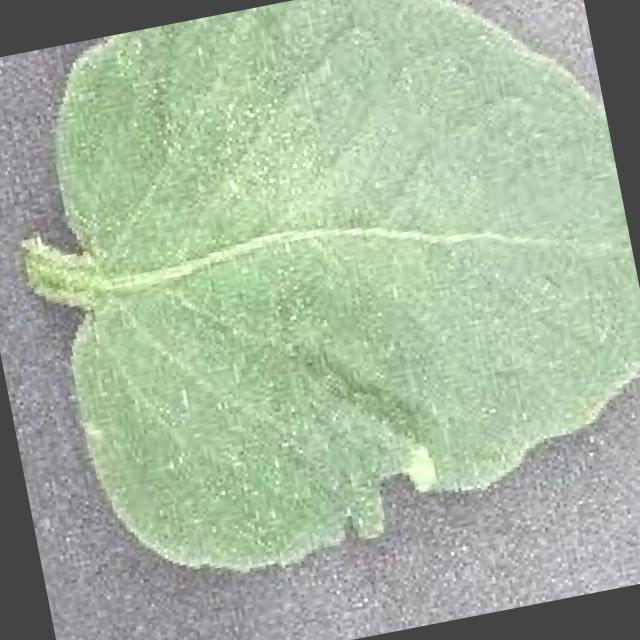healthy: (37, 0, 640, 569)
